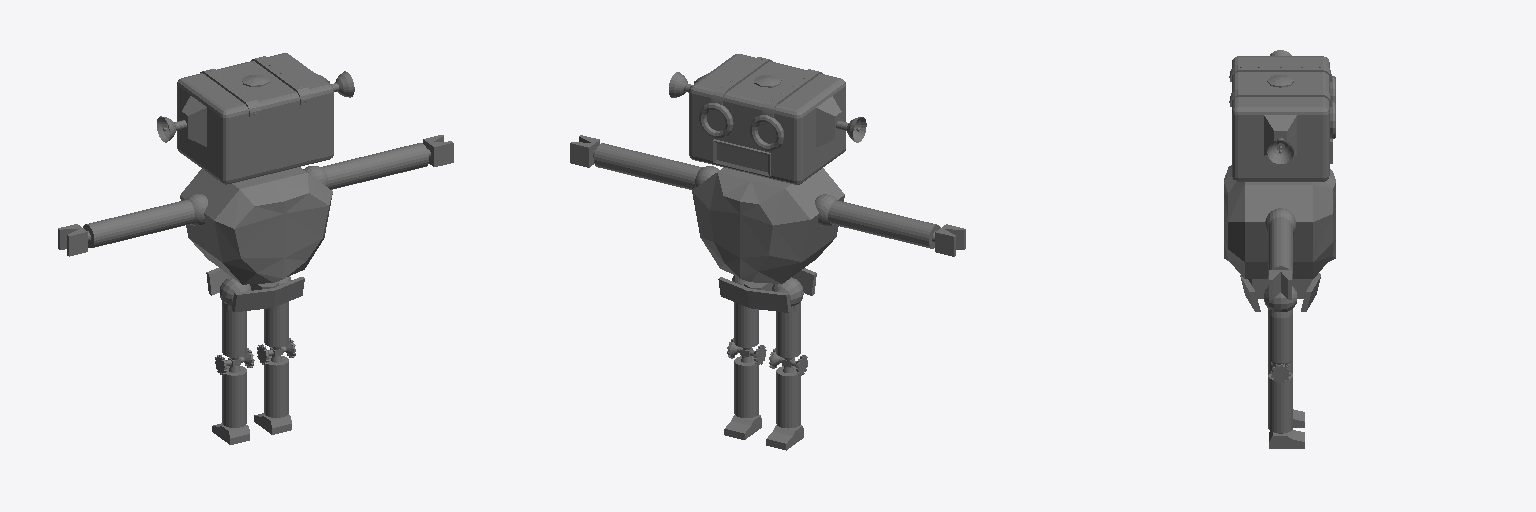
Rendered from BaseObj.obj.
3 views of the same model, side by side, from view 1: azimuth 30°, elevation 25°; view 2: azimuth 150°, elevation 25°; view 3: azimuth 270°, elevation 25° (orthographic).
Visible parts, largest first — view 1: BaseObj.obj; view 2: BaseObj.obj; view 3: BaseObj.obj.
Boxes of the visible parts, x1,y1,x2,y2 form: BaseObj.obj: [58, 53, 453, 444]; BaseObj.obj: [570, 54, 965, 450]; BaseObj.obj: [1224, 50, 1335, 448].
Size of the model in its own units: 136 by 120 by 34.57.